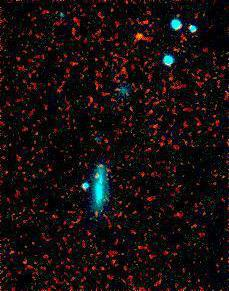star: (124, 21, 154, 51)
